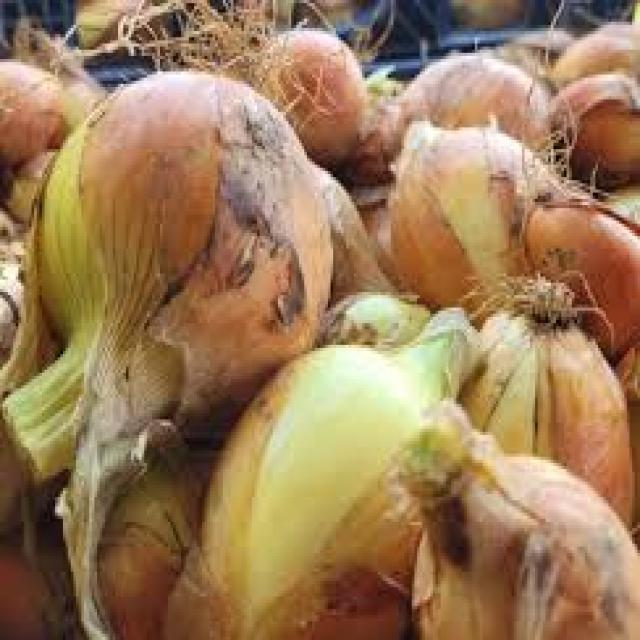Onion: (3, 75, 335, 639), (168, 304, 485, 640), (398, 404, 640, 640), (459, 261, 636, 537), (120, 2, 365, 166), (385, 118, 557, 329), (518, 133, 640, 370), (97, 447, 227, 640), (388, 45, 555, 175), (544, 74, 640, 192), (3, 206, 59, 397), (3, 524, 88, 640), (4, 389, 62, 529), (547, 18, 640, 105), (0, 55, 64, 178), (345, 74, 408, 184), (10, 153, 64, 225), (350, 186, 390, 253), (594, 185, 640, 233), (617, 343, 640, 415)
